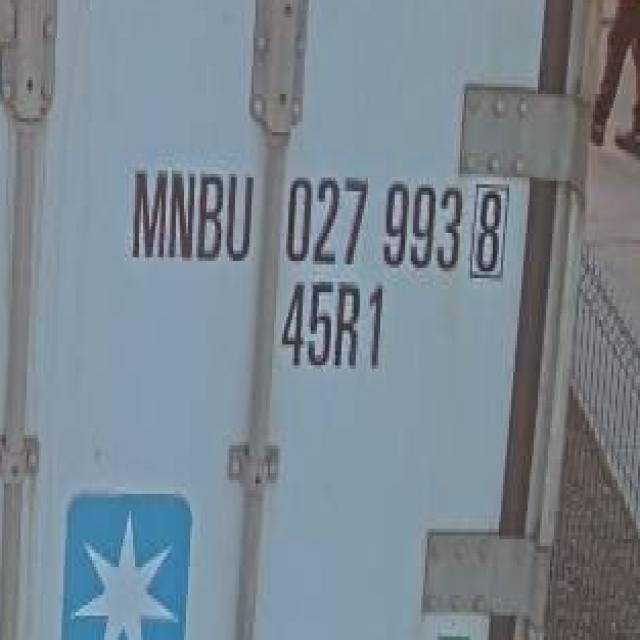dv: (468, 180, 512, 280)
owner: (125, 160, 263, 272)
serial: (286, 170, 464, 276)
size: (274, 276, 398, 386)
